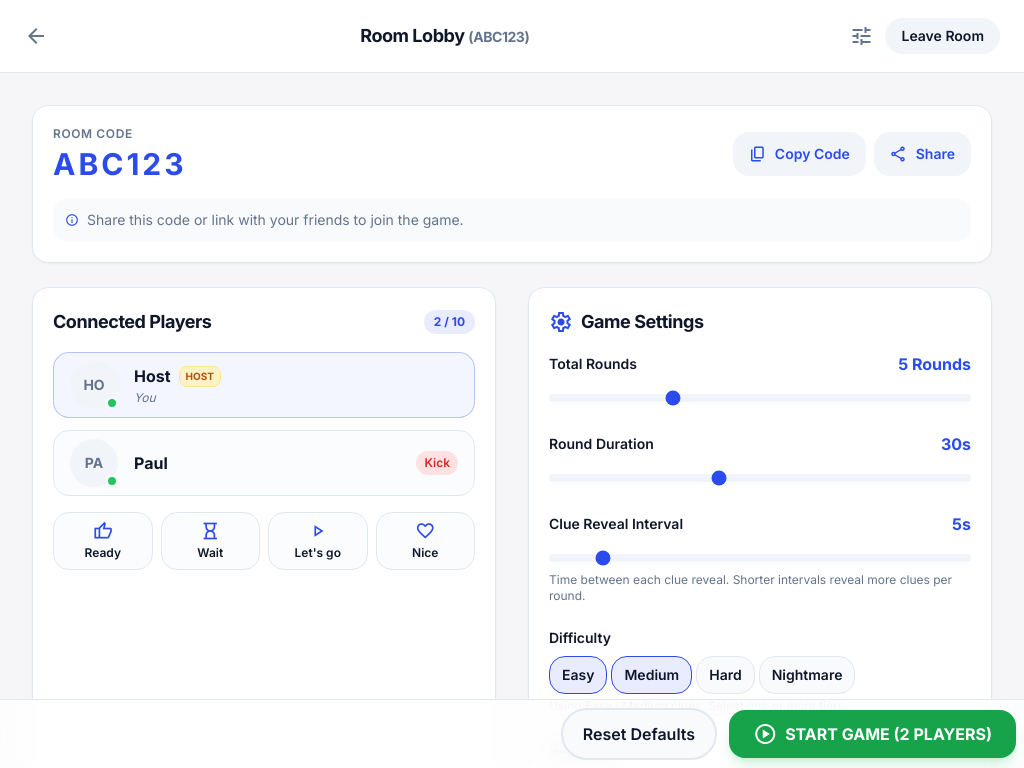
Scenario: Lobby › opens the native share sheet when available
The image size is (1024, 768).
Click the button titled "Share invite" at (922, 154), box [874,132,971,176]
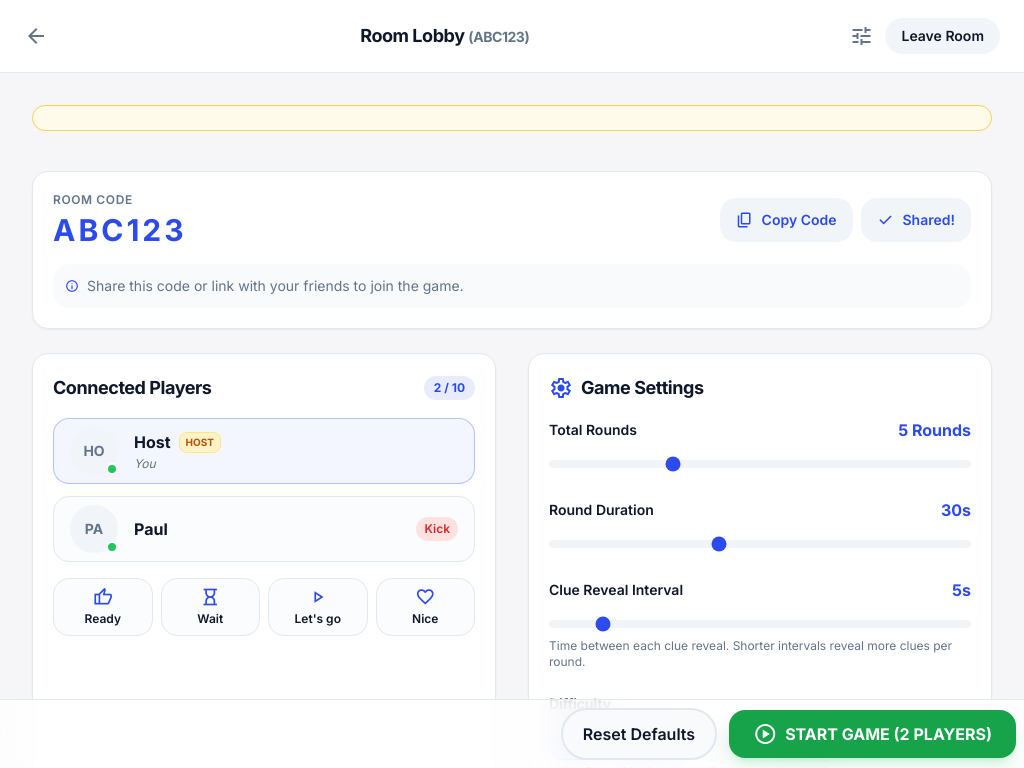
Check: the text "Shared!" is shown, box [902,210,955,230]
